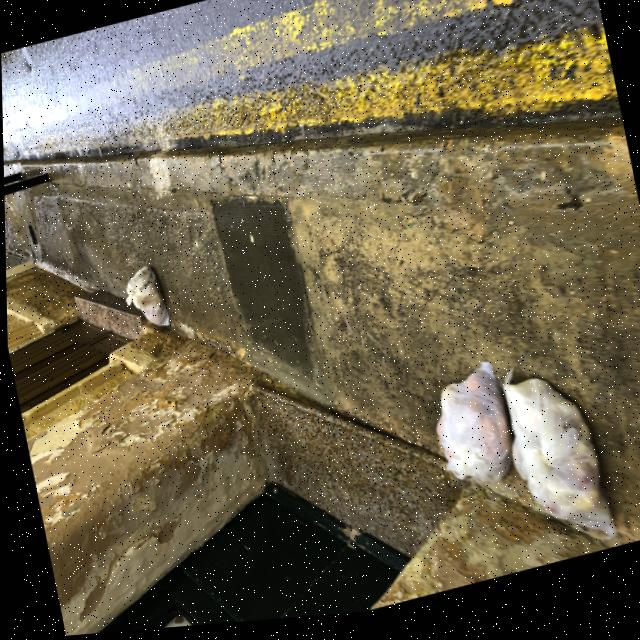Organic Waste -White Bag-: (501, 355, 620, 571), (415, 356, 521, 511), (113, 253, 180, 343)
